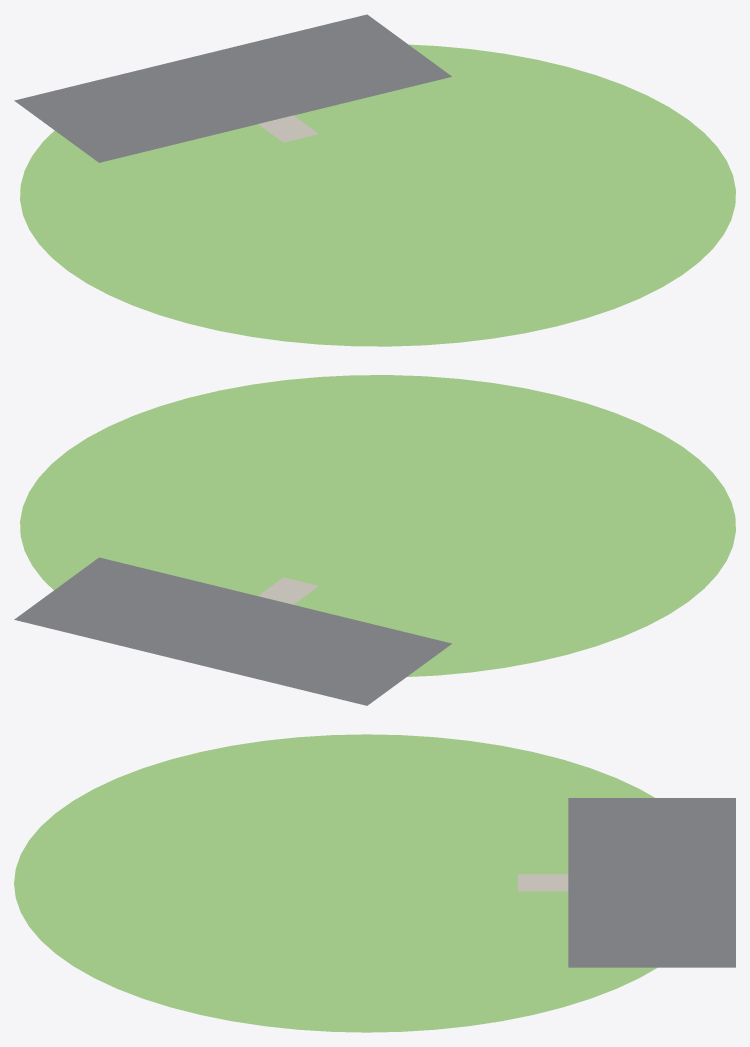
The model's file is earth-sets.glb.
The picture shows the model from 3 angles, top to bottom: view 1: azimuth 30°, elevation 25°; view 2: azimuth 150°, elevation 25°; view 3: azimuth 270°, elevation 25°; orthographic projection.
Parts seen in each view (by area): view 1: Ground, Road, Path; view 2: Ground, Road, Path; view 3: Ground, Road, Path.
Boxes of the visible parts, x1,y1,x2,y2 form: Ground: (20,44,735,346); Road: (14,14,451,162); Path: (258,115,318,142); Ground: (20,375,735,676); Road: (14,557,451,705); Path: (258,577,318,604); Ground: (14,734,657,1032); Road: (568,798,735,967); Path: (518,874,568,891).
Size of the model in its own units: 21.03 by 0.025 by 21.51.
